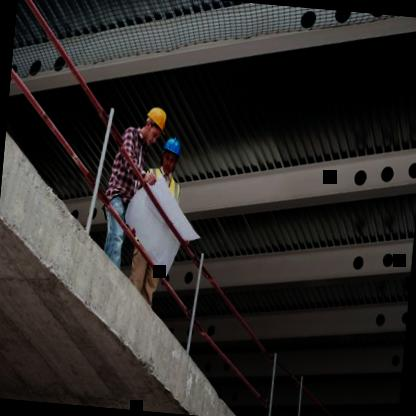helmet: (140, 104, 168, 147), (159, 136, 183, 174)
